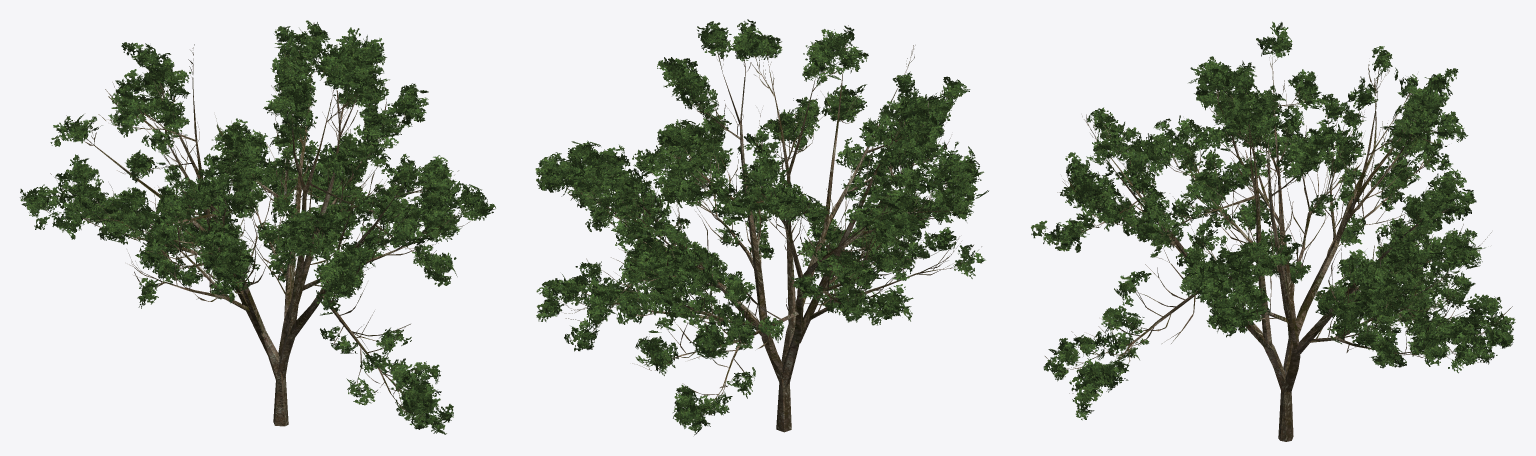
The model's file is prop_tree_ash_real.glb.
3 renders of one model, left to right at view 1: azimuth 30°, elevation 25°; view 2: azimuth 150°, elevation 25°; view 3: azimuth 270°, elevation 25°, orthographic.
Parts seen in each view (by area): view 1: individual_ash_leaves, tree; view 2: individual_ash_leaves, tree; view 3: individual_ash_leaves, tree.
Boxes of the visible parts, x1=… form: individual_ash_leaves: x1=20, y1=20, x2=495, y2=434; tree: x1=44, y1=22, x2=474, y2=426; individual_ash_leaves: x1=535, y1=19, x2=988, y2=435; tree: x1=560, y1=25, x2=981, y2=432; individual_ash_leaves: x1=1031, y1=21, x2=1515, y2=420; tree: x1=1045, y1=36, x2=1513, y2=441.
Bounding box in the file's own units: 14.44 × 13.11 × 15.59.
2 materials, 2 textured.
